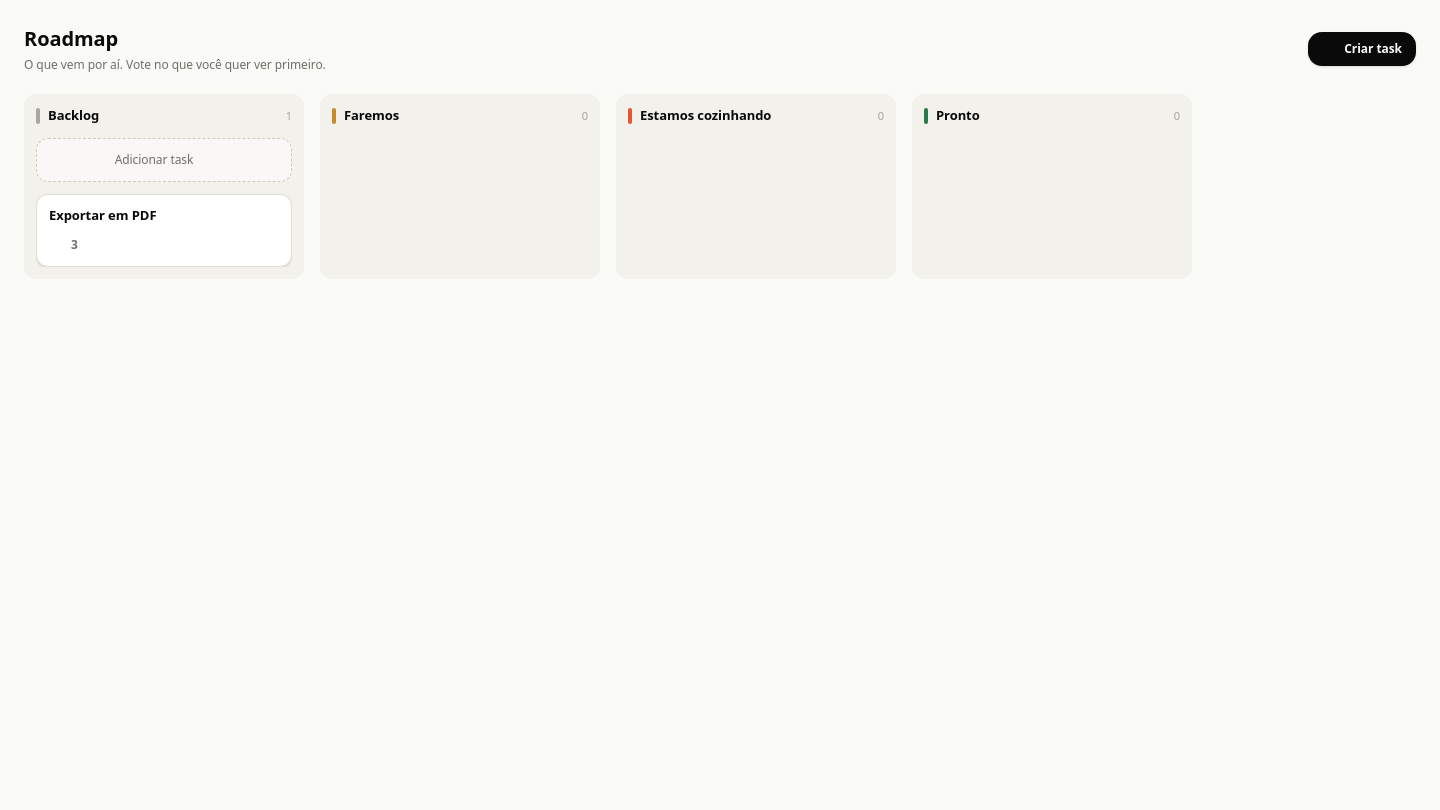
roadmap — popup de detalhe do card › card sem descrição diz que não tem, em vez de abrir um popup vazio
Click the button with test id "abrir-detalhe-c1" at (164, 215), box 49,206 -> 279,224
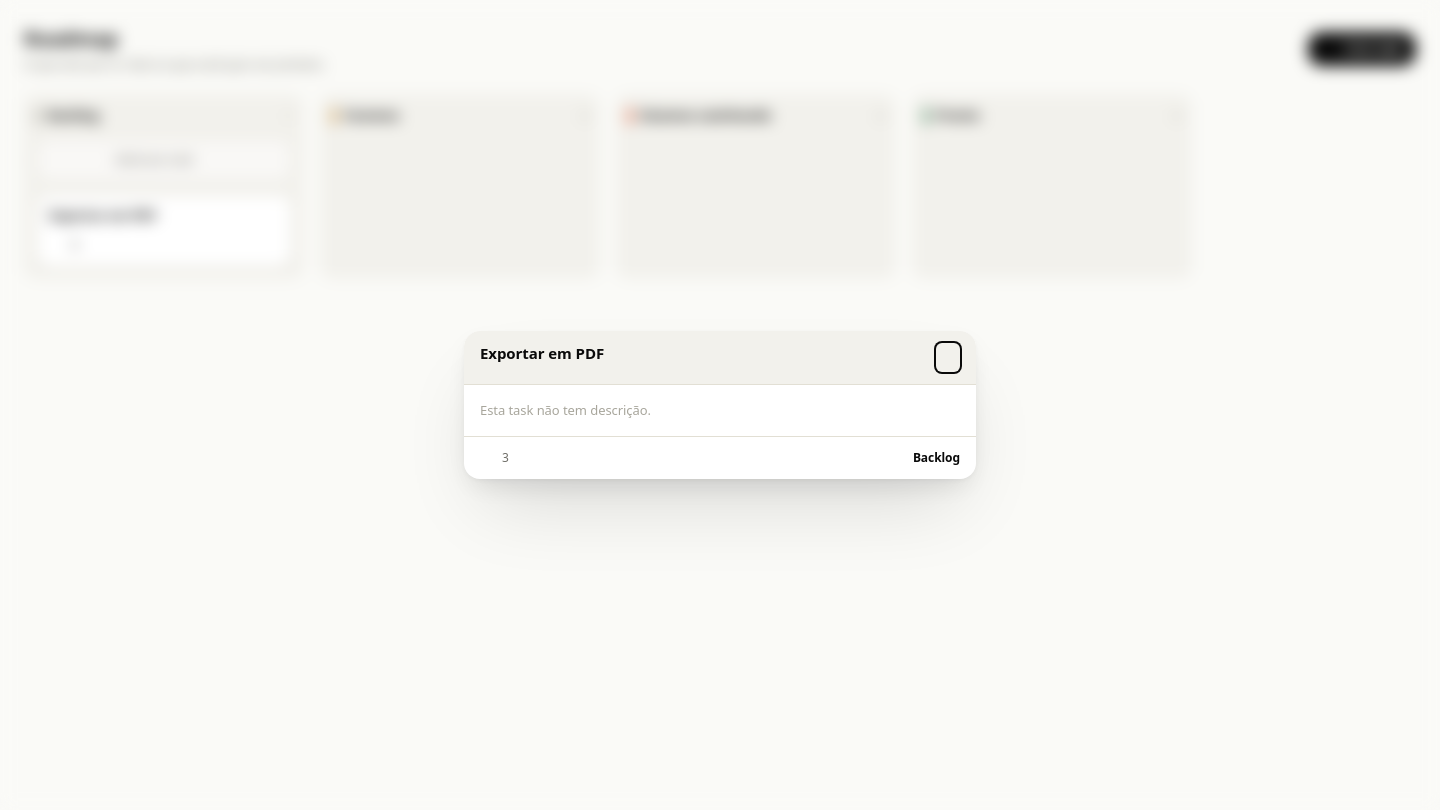
Now the text with test id "detalhe-descricao" reads "Esta task não tem descrição.", box 480,401 -> 651,419
